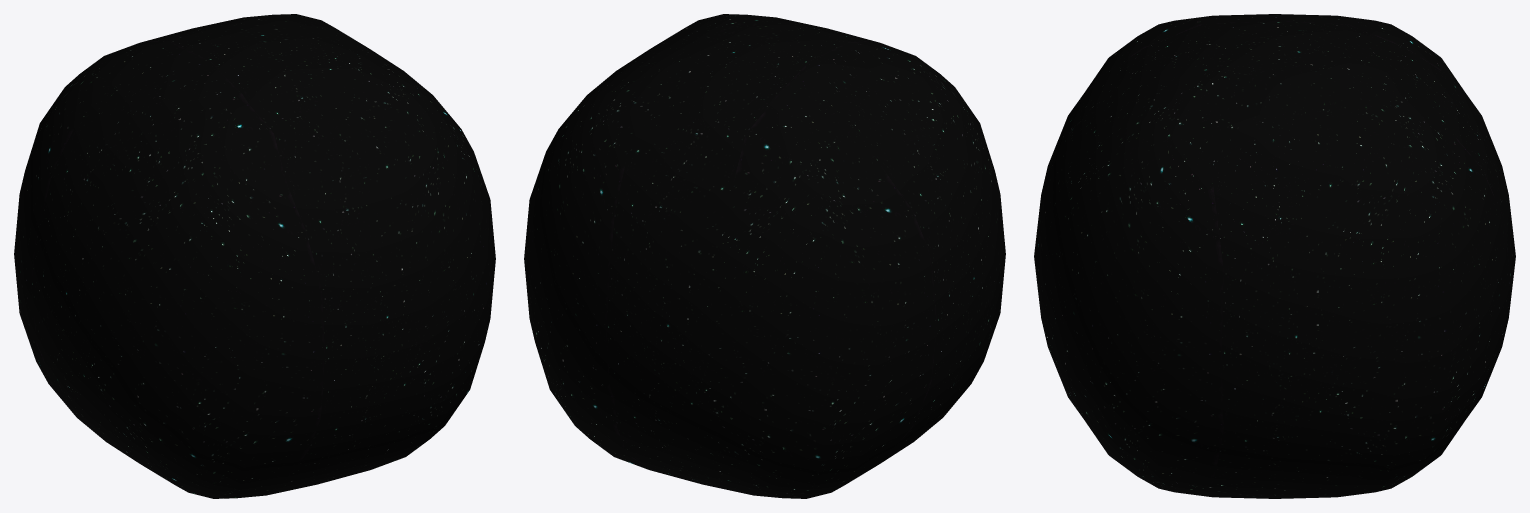
File: Space.fbx
3 renders of one model, left to right at view 1: azimuth 30°, elevation 25°; view 2: azimuth 150°, elevation 25°; view 3: azimuth 270°, elevation 25°, orthographic. The views are drawn at different scales.
Parts seen in each view (by area): view 1: Space; view 2: Space; view 3: Space.
Part boxes in pixels (<box>): Space: <box>14,14,495,498</box>; Space: <box>524,14,1005,498</box>; Space: <box>1034,14,1515,498</box>.
Bounding box in the file's own units: 1001075 × 1001066 × 1001066.
